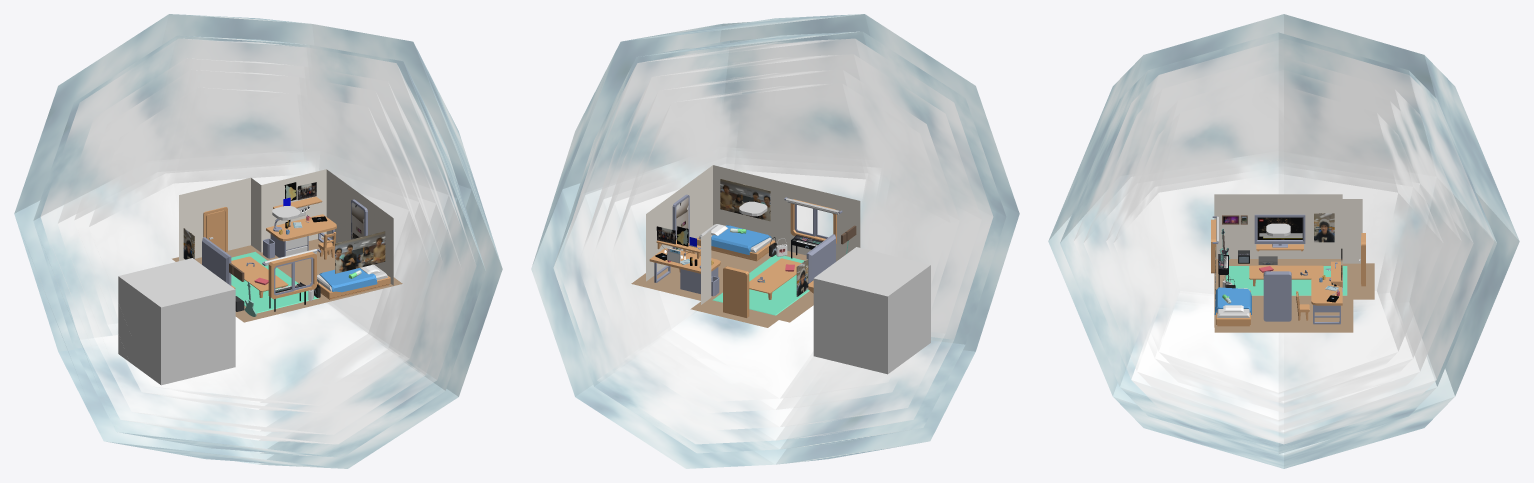
The model's file is bedroom1.glb.
3 views of the same model, side by side, from view 1: azimuth 30°, elevation 25°; view 2: azimuth 150°, elevation 25°; view 3: azimuth 270°, elevation 25° (orthographic). The views are drawn at different scales.
Visible parts, largest first — view 1: outer sky, inner sky, inner sky.001, colored sky, colored sky.001, outer sky.001, Cube, house base, house floor, Plane.019, japanese floor mat thing, desk top (+5 smaller); view 2: outer sky, inner sky, inner sky.001, colored sky, colored sky.001, outer sky.001, Cube, house base, house floor, japanese floor mat thing, Plane.019, door (+6 smaller); view 3: outer sky, inner sky, inner sky.001, colored sky, colored sky.001, outer sky.001, house base, house floor, house floor.001, mirror square base, japanese floor mat thing, Cube.028 (+5 smaller).
Boxes of the visible parts, bbox=[...] form: outer sky: bbox=[33, 35, 486, 457]; inner sky: bbox=[89, 87, 430, 405]; inner sky.001: bbox=[74, 70, 442, 412]; colored sky: bbox=[57, 58, 461, 434]; colored sky.001: bbox=[40, 38, 476, 444]; outer sky.001: bbox=[14, 14, 502, 468]; Cube: bbox=[118, 258, 235, 385]; house base: bbox=[179, 169, 393, 285]; house floor: bbox=[195, 237, 393, 321]; Plane.019: bbox=[335, 231, 385, 273]; japanese floor mat thing: bbox=[231, 251, 318, 313]; desk top: bbox=[266, 214, 336, 241]; outer sky: bbox=[553, 31, 1006, 453]; inner sky: bbox=[612, 83, 950, 401]; inner sky.001: bbox=[595, 70, 959, 412]; colored sky: bbox=[582, 54, 981, 430]; colored sky.001: bbox=[562, 38, 993, 444]; outer sky.001: bbox=[531, 14, 1019, 468]; Cube: bbox=[813, 247, 930, 374]; house base: bbox=[646, 165, 860, 304]; house floor: bbox=[646, 250, 813, 322]; japanese floor mat thing: bbox=[712, 254, 809, 315]; Plane.019: bbox=[720, 179, 770, 221]; door: bbox=[723, 266, 749, 317]; outer sky: bbox=[1060, 32, 1496, 454]; inner sky: bbox=[1113, 85, 1443, 402]; inner sky.001: bbox=[1106, 71, 1461, 412]; colored sky: bbox=[1083, 56, 1473, 431]; colored sky.001: bbox=[1073, 40, 1494, 444]; outer sky.001: bbox=[1048, 14, 1519, 468]; house base: bbox=[1214, 194, 1362, 263]; house floor: bbox=[1214, 259, 1362, 327]; house floor.001: bbox=[1214, 263, 1374, 332]; mirror square base: bbox=[1263, 271, 1291, 321]; japanese floor mat thing: bbox=[1225, 266, 1347, 295]; Cube.028: bbox=[1249, 265, 1323, 279].
Bounding box in the file's own units: 11.47 × 11.47 × 11.47.
59 materials, 27 textured.
